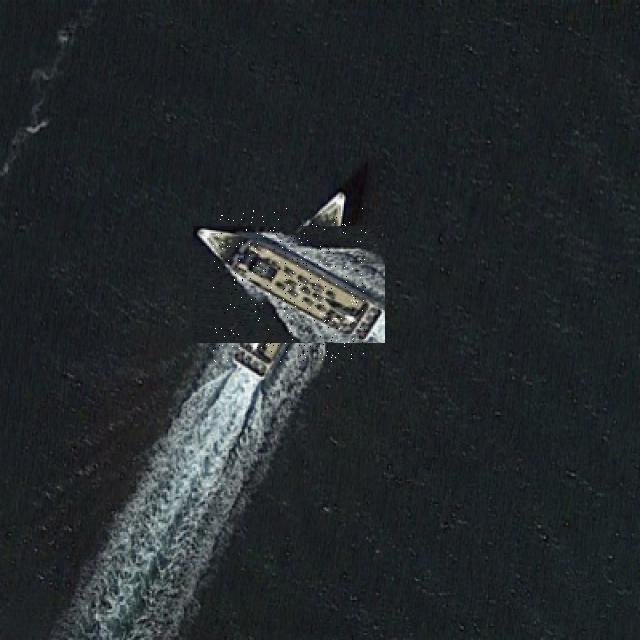boat: (212, 207, 366, 362)
